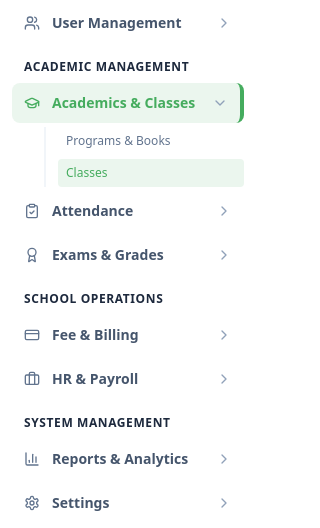
Test: AdminSidebar RBAC › collapses and expands section when clicking on an active collapsible header
Expected: the text "Classes" is shown, left=66, top=165, right=107, bottom=181
Expected: the text "Programs & Books" is shown, left=66, top=133, right=170, bottom=149
Click to collapse
Click the button "Academics & Classes". click: (128, 103)
box: left=12, top=83, right=244, bottom=123
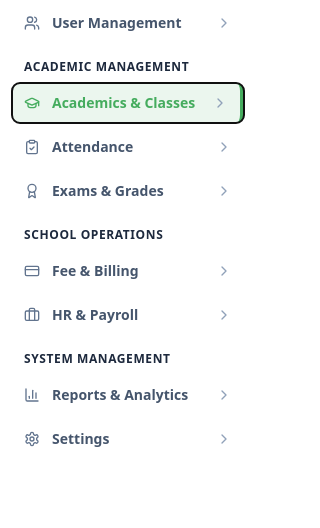
Result: the button "Programs & Books" is gone
Click again to re-expand
Click the button "Academics & Classes". click: (128, 103)
box: left=12, top=83, right=244, bottom=123
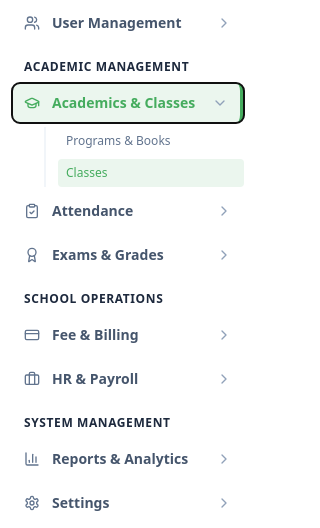
Result: the text "Classes" is shown at left=66, top=165, right=107, bottom=181
Result: the text "Programs & Books" is shown at left=66, top=133, right=170, bottom=149
